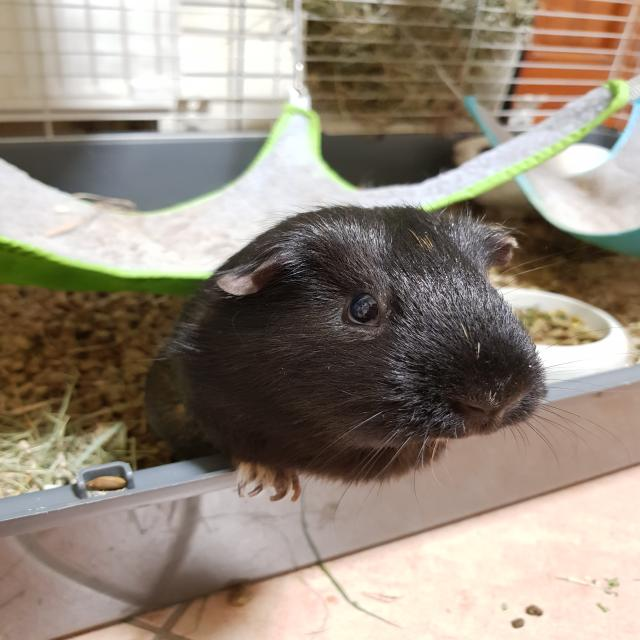guinea pig: (137, 202, 551, 506)
